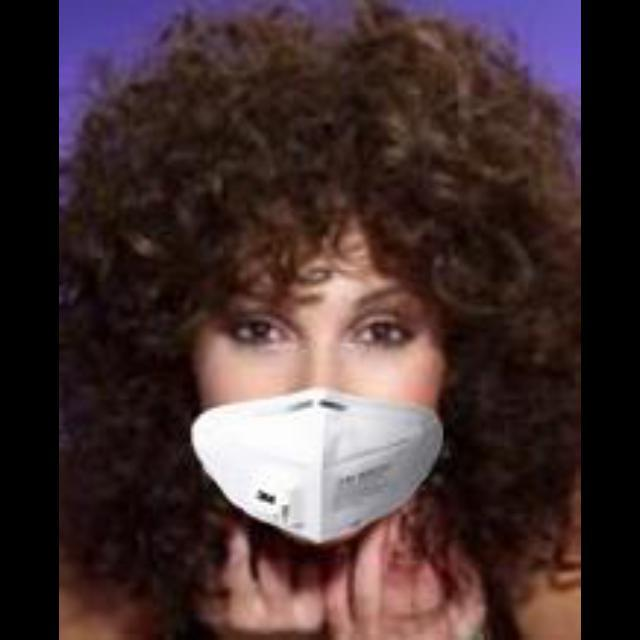suspicion: (116, 134, 518, 566)
